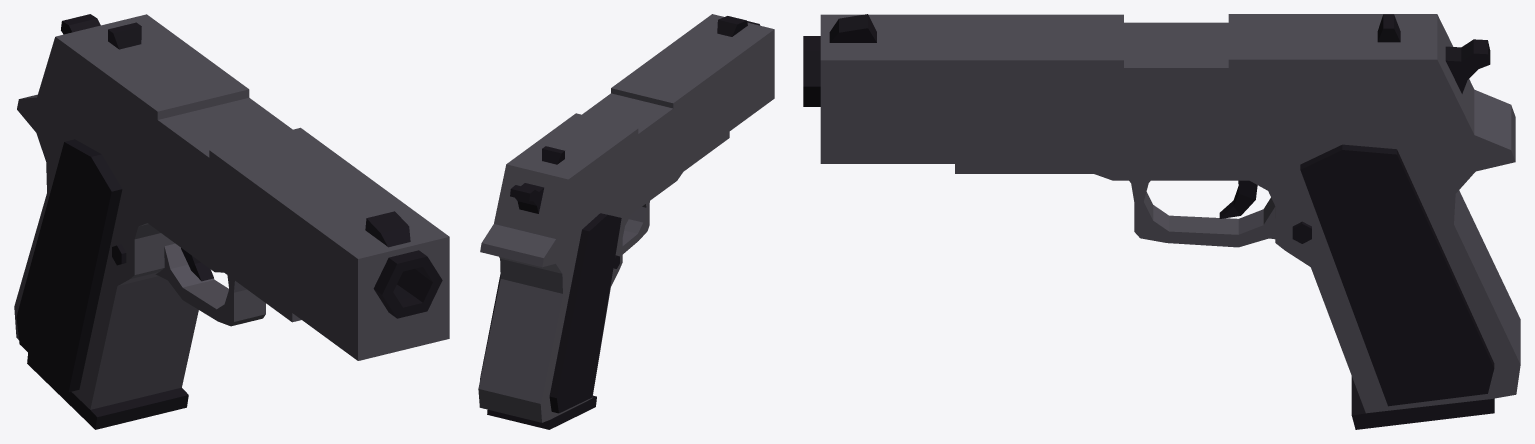
File: pistol.fbx
3 views of the same model, side by side, from view 1: azimuth 30°, elevation 25°; view 2: azimuth 150°, elevation 25°; view 3: azimuth 270°, elevation 25° (orthographic). The views are drawn at different scales.
Visible parts, largest first — view 1: pistol; view 2: pistol; view 3: pistol.
Part boxes in pixels (x1,y1,x2,y2): pistol: [14, 14, 449, 429]; pistol: [478, 14, 774, 429]; pistol: [803, 14, 1520, 429].
Size of the model in its own units: 0.052 by 0.1666 by 0.2805.
